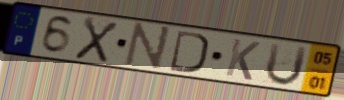6: (39, 14, 75, 56)
D: (168, 28, 210, 75)
K: (223, 36, 263, 82)
N: (121, 21, 174, 73)
U: (263, 41, 310, 88)
X: (72, 15, 121, 65)
